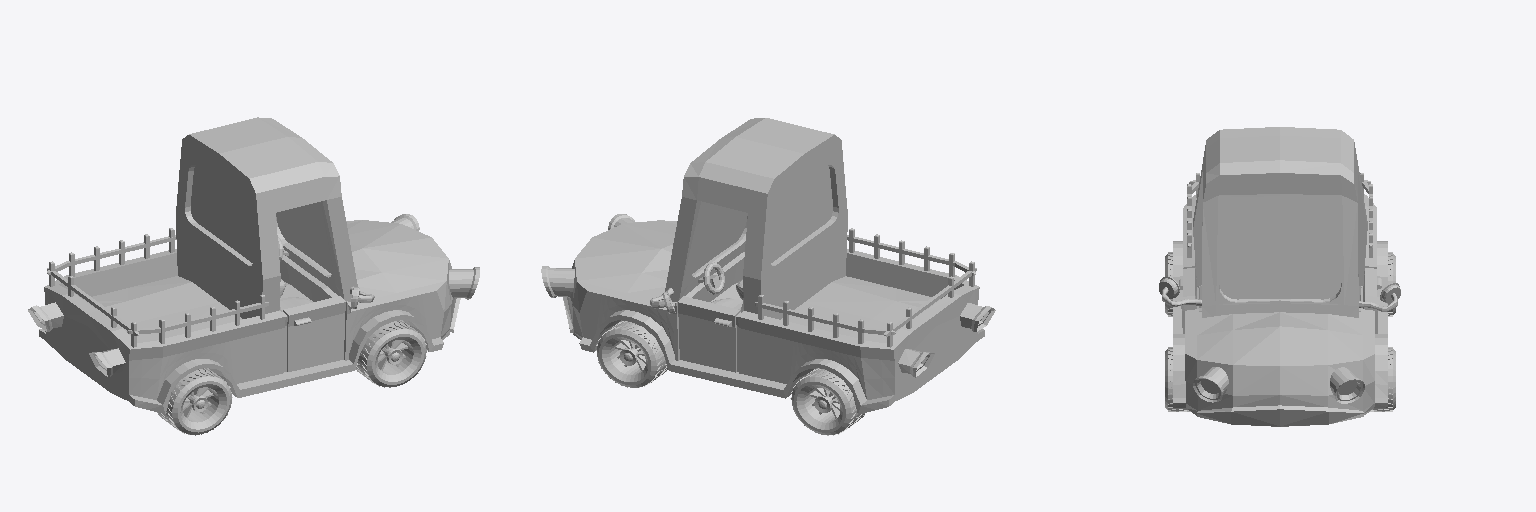
File: pinkCarr.obj
The picture shows the model from 3 angles: view 1: azimuth 30°, elevation 25°; view 2: azimuth 150°, elevation 25°; view 3: azimuth 270°, elevation 25°; orthographic projection.
Visible parts, largest first — view 1: defaultMaterial.034, defaultMaterial.033, defaultMaterial.031, defaultMaterial.030, defaultMaterial.032, defaultMaterial.025, defaultMaterial.003, defaultMaterial.001, defaultMaterial.002; view 2: defaultMaterial.034, defaultMaterial.033, defaultMaterial.028, defaultMaterial.029, defaultMaterial.032, defaultMaterial.024, defaultMaterial.003, defaultMaterial.001, defaultMaterial.002, defaultMaterial.021; view 3: defaultMaterial.034, defaultMaterial.032, defaultMaterial.024, defaultMaterial.025, defaultMaterial.020, defaultMaterial.028, defaultMaterial.031, defaultMaterial.
Part boxes in pixels (x1,y1,x2,y2): defaultMaterial.034: (28,117,460,413); defaultMaterial.033: (191,166,252,262); defaultMaterial.031: (355,320,427,387); defaultMaterial.030: (157,368,232,435); defaultMaterial.032: (276,202,331,273); defaultMaterial.025: (449,267,479,299); defaultMaterial.003: (127,302,268,333); defaultMaterial.001: (47,235,176,274); defaultMaterial.002: (47,268,138,335); defaultMaterial.034: (563,118,995,414); defaultMaterial.033: (770,166,832,262); defaultMaterial.028: (596,320,667,387); defaultMaterial.029: (790,368,864,435); defaultMaterial.032: (692,202,747,273); defaultMaterial.024: (541,266,574,297); defaultMaterial.003: (847,235,975,275); defaultMaterial.001: (754,302,895,334); defaultMaterial.002: (884,268,976,336); defaultMaterial.021: (698,262,724,294); defaultMaterial.034: (1173,127,1387,426); defaultMaterial.032: (1219,196,1341,299); defaultMaterial.024: (1330,367,1364,403); defaultMaterial.025: (1193,367,1228,402); defaultMaterial.020: (1159,277,1201,306); defaultMaterial.028: (1370,347,1395,411); defaultMaterial.031: (1165,347,1190,411); defaultMaterial: (1359,283,1400,311).
Bounding box in the file's own units: 2.25 × 1.24 × 1.23.